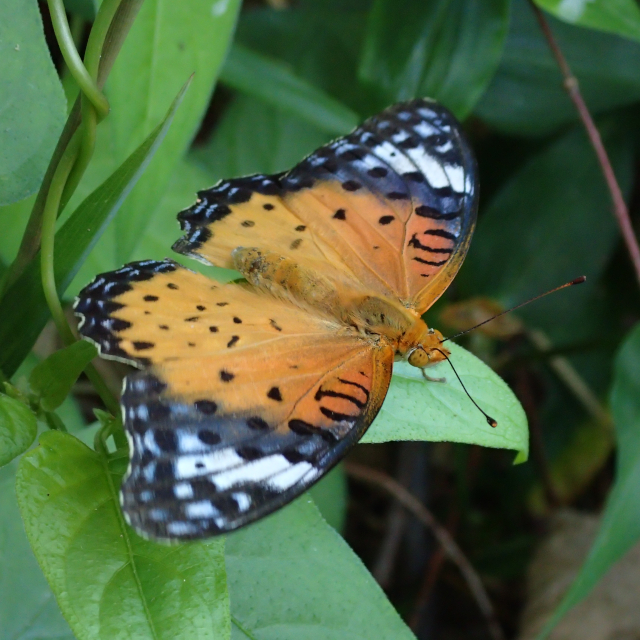Argyreus hyperbius: (63, 92, 587, 546)
butterfly: (65, 94, 589, 548)
